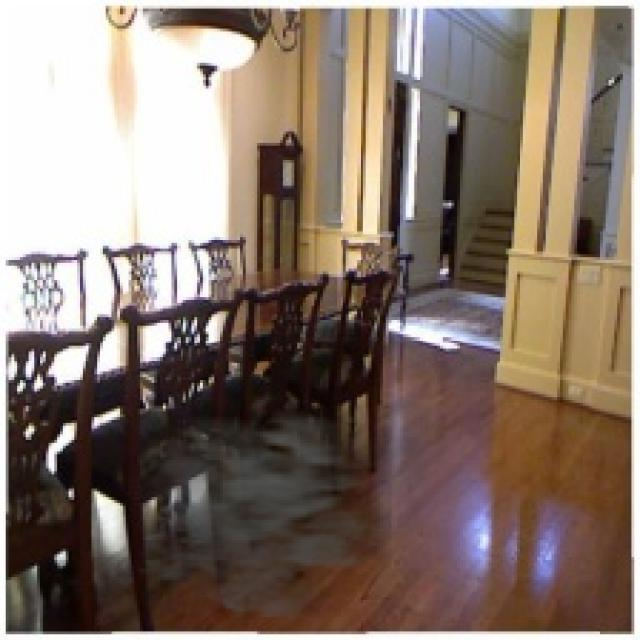Smoke: (108, 394, 392, 617)
